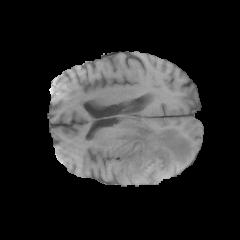glioma: (118, 126, 191, 184)
